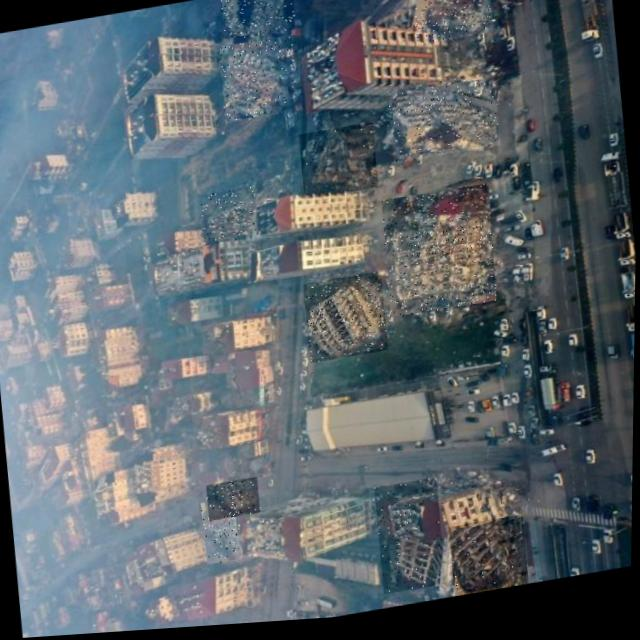Rubble: (380, 187, 500, 323), (387, 77, 502, 168), (374, 481, 449, 599), (303, 275, 390, 367), (217, 36, 304, 126), (449, 520, 531, 603), (298, 126, 379, 203), (408, 0, 495, 50), (200, 188, 259, 246), (218, 0, 296, 43), (200, 493, 245, 567), (208, 479, 263, 523)
